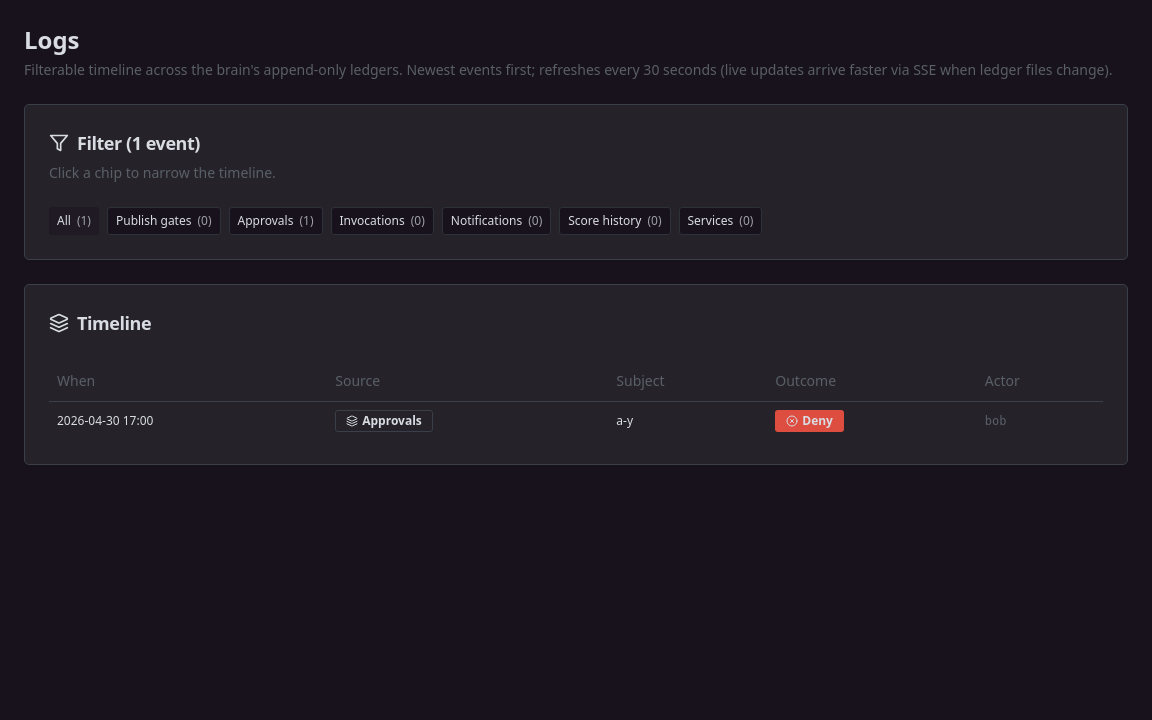
Test case: LogsPage › backdrop click dismisses the drill-down modal
This screenshot has width=1152, height=720.
Check: the table with test id "logs-timeline" is shown, box [49,361,1103,440]
Click the text "a-y". click: [625, 420]
box: [608,401,767,440]
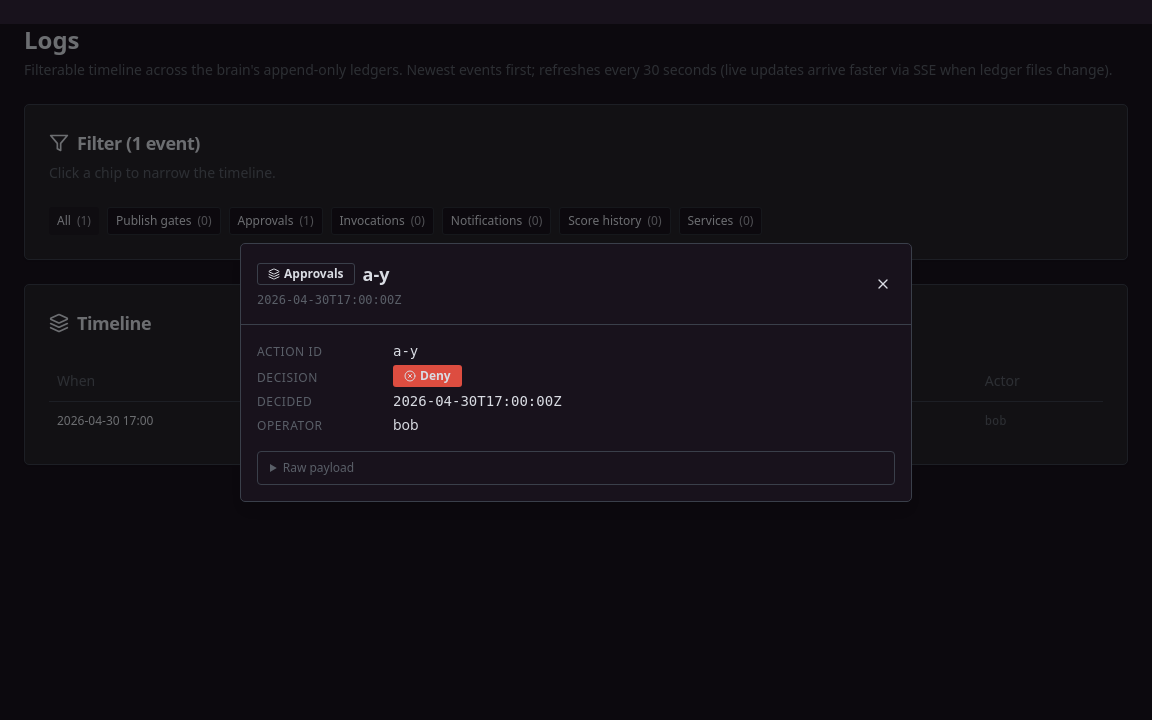
Click the element with test id "log-detail-backdrop". click: [69, 372]
box: [0,24,1151,719]
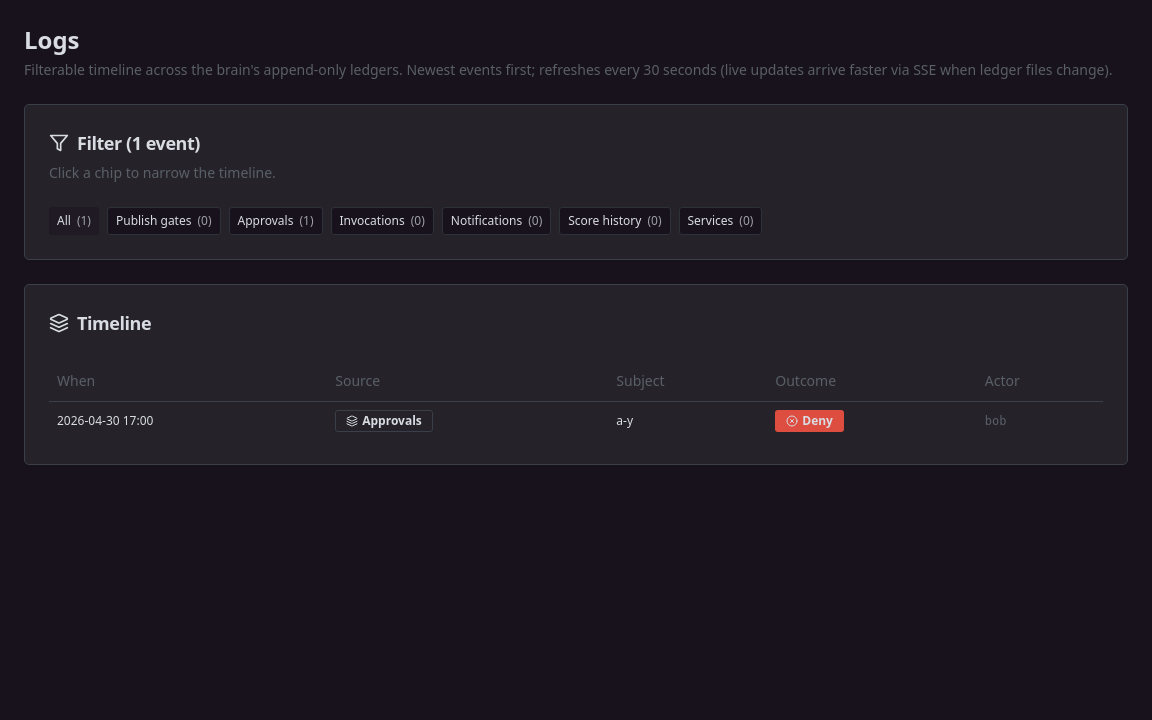
Check: the element with test id "log-detail-backdrop" is gone
